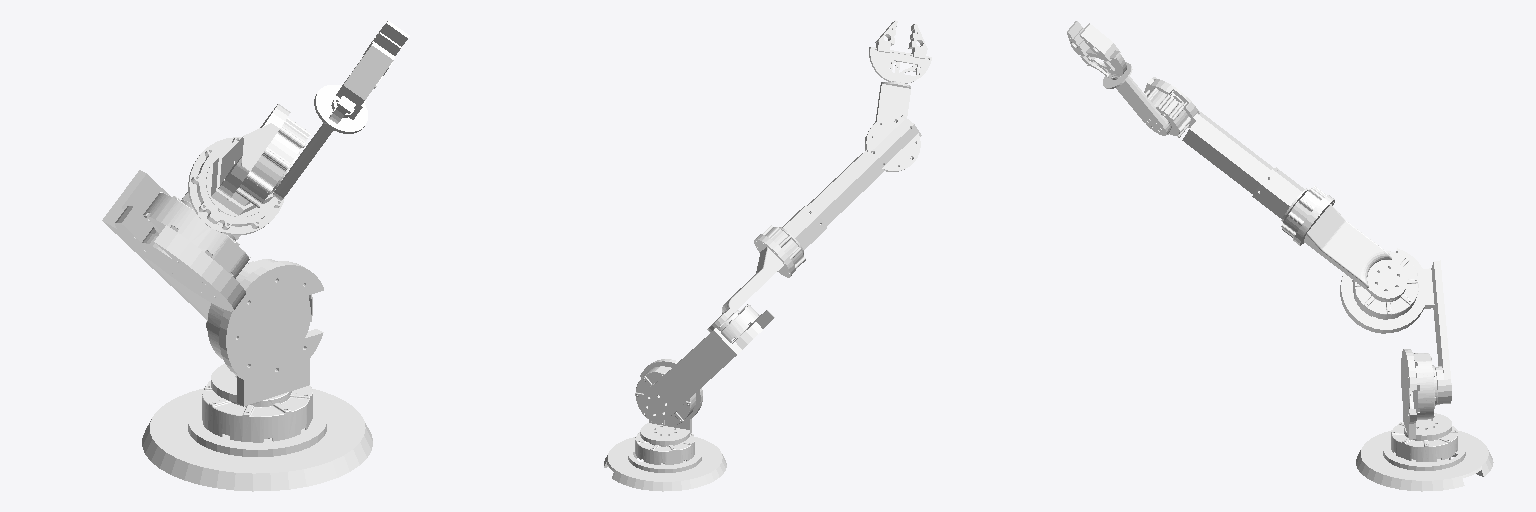
URDF robot description (ave_arm):
<?xml version="1.0" encoding="utf-8"?>
<!-- This URDF was automatically created by SolidWorks to URDF Exporter! Originally created by [author] ([email redacted]) 
     Commit Version: 1.6.0-4-g7f85cfe  Build Version: 1.6.7995.38578
     For more information, please see http://wiki.ros.org/sw_urdf_exporter -->
<robot
  name="ave_arm">
  <link name="dummy">
   </link>
  <joint name="dummy_joint" type="fixed">
     <parent link="dummy"/>
     <child link="base_link"/>
   </joint>
  <link
    name="base_link">
    <inertial>
      <origin
        xyz="-0.00133700451705359 -0.0014776223883016 0.0171725333208996"
        rpy="0 0 0" />
      <mass
        value="0.495398361421742" />
      <inertia
        ixx="0.000977592796343529"
        ixy="5.75472061888291E-05"
        ixz="-1.81686046427324E-06"
        iyy="0.000986321958156476"
        iyz="-1.9921595121604E-06"
        izz="0.00193088540182339" />
    </inertial>
    <visual>
      <origin
        xyz="0 0 0"
        rpy="0 0 0" />
      <geometry>
        <mesh
          filename="package://ave_arm/meshes/base_link.STL" />
      </geometry>
      <material
        name="">
        <color
          rgba="1 1 1 1" />
      </material>
    </visual>
    <collision>
      <origin
        xyz="0 0 0"
        rpy="0 0 0" />
      <geometry>
        <mesh
          filename="package://ave_arm/meshes/base_link.STL" />
      </geometry>
    </collision>
  </link>
  <link
    name="link1">
    <inertial>
      <origin
        xyz="0.00132014818622215 0.00613370248515441 0.0505376779673008"
        rpy="0 0 0" />
      <mass
        value="0.245433733010897" />
      <inertia
        ixx="0.000262605483184927"
        ixy="-2.85267108486222E-06"
        ixz="-8.08644050972868E-06"
        iyy="0.000385789151658845"
        iyz="-3.04033425031524E-05"
        izz="0.000185347731633862" />
    </inertial>
    <visual>
      <origin
        xyz="0 0 0"
        rpy="0 0 0" />
      <geometry>
        <mesh
          filename="package://ave_arm/meshes/link1.STL" />
      </geometry>
      <material
        name="">
        <color
          rgba="1 1 1 1" />
      </material>
    </visual>
    <collision>
      <origin
        xyz="0 0 0"
        rpy="0 0 0" />
      <geometry>
        <mesh
          filename="package://ave_arm/meshes/link1.STL" />
      </geometry>
    </collision>
  </link>
  <joint
    name="joint1"
    type="continuous">
    <origin
      xyz="0.00090375 0.00093124 0.0615"
      rpy="0 0 -3.0139" />
    <parent
      link="base_link" />
    <child
      link="link1" />
    <axis
      xyz="0 0 1" />
  </joint>
  <link
    name="link2">
    <inertial>
      <origin
        xyz="0.126827475764063 0.00538054748160802 0.0581422477433894"
        rpy="0 0 0" />
      <mass
        value="0.469251691539086" />
      <inertia
        ixx="0.000735122280564443"
        ixy="-0.000100192677052429"
        ixz="-0.000357149652393404"
        iyy="0.00184228470253638"
        iyz="-8.74879494582947E-05"
        izz="0.0012380826246888" />
    </inertial>
    <visual>
      <origin
        xyz="0 0 0"
        rpy="0 0 0" />
      <geometry>
        <mesh
          filename="package://ave_arm/meshes/link2.STL" />
      </geometry>
      <material
        name="">
        <color
          rgba="1 1 1 1" />
      </material>
    </visual>
    <collision>
      <origin
        xyz="0 0 0"
        rpy="0 0 0" />
      <geometry>
        <mesh
          filename="package://ave_arm/meshes/link2.STL" />
      </geometry>
    </collision>
  </link>
  <joint
    name="joint2"
    type="continuous">
    <origin
      xyz="0 -0.036045 0.06"
      rpy="-1.5708 -0.83842 0" />
    <parent
      link="link1" />
    <child
      link="link2" />
    <axis
      xyz="0 0 -1" />
  </joint>
  <link
    name="link3">
    <inertial>
      <origin
        xyz="-0.0648779081985757 -0.0841990878752458 0.00524640375918309"
        rpy="0 0 0" />
      <mass
        value="0.311778622098952" />
      <inertia
        ixx="0.000367159128282544"
        ixy="-0.000151103106476051"
        ixz="2.76043573671825E-05"
        iyy="0.00028751609285446"
        iyz="3.58246773884041E-05"
        izz="0.000520368415855329" />
    </inertial>
    <visual>
      <origin
        xyz="0 0 0"
        rpy="0 0 0" />
      <geometry>
        <mesh
          filename="package://ave_arm/meshes/link3.STL" />
      </geometry>
      <material
        name="">
        <color
          rgba="1 1 1 1" />
      </material>
    </visual>
    <collision>
      <origin
        xyz="0 0 0"
        rpy="0 0 0" />
      <geometry>
        <mesh
          filename="package://ave_arm/meshes/link3.STL" />
      </geometry>
    </collision>
  </link>
  <joint
    name="joint3"
    type="continuous">
    <origin
      xyz="0.15411 -0.034 0.08"
      rpy="-1.5708 -0.085616 3.1416" />
    <parent
      link="link2" />
    <child
      link="link3" />
    <axis
      xyz="0 0 1" />
  </joint>
  <link
    name="link4">
    <inertial>
      <origin
        xyz="-0.000184667003483879 0.000219303481400063 0.147525025287695"
        rpy="0 0 0" />
      <mass
        value="0.473749922977081" />
      <inertia
        ixx="0.00148782041076138"
        ixy="-8.49394546955604E-06"
        ixz="2.53966080391733E-05"
        iyy="0.00153601210270288"
        iyz="-8.04811278400785E-05"
        izz="0.000176531298886707" />
    </inertial>
    <visual>
      <origin
        xyz="0 0 0"
        rpy="0 0 0" />
      <geometry>
        <mesh
          filename="package://ave_arm/meshes/link4.STL" />
      </geometry>
      <material
        name="">
        <color
          rgba="1 1 1 1" />
      </material>
    </visual>
    <collision>
      <origin
        xyz="0 0 0"
        rpy="0 0 0" />
      <geometry>
        <mesh
          filename="package://ave_arm/meshes/link4.STL" />
      </geometry>
    </collision>
  </link>
  <joint
    name="joint4"
    type="continuous">
    <origin
      xyz="-0.10359 -0.13442 0.01"
      rpy="1.5708 -1.4162 -0.65657" />
    <parent
      link="link3" />
    <child
      link="link4" />
    <axis
      xyz="0 0 1" />
  </joint>
  <link
    name="link5">
    <inertial>
      <origin
        xyz="0.000487847303525024 0.103069627445185 0.0047959021477267"
        rpy="0 0 0" />
      <mass
        value="0.122729595601156" />
      <inertia
        ixx="0.000119906990002352"
        ixy="1.40339492161808E-06"
        ixz="3.25048335977657E-08"
        iyy="5.98949635353449E-05"
        iyz="6.39169795372326E-07"
        izz="0.000173033038035876" />
    </inertial>
    <visual>
      <origin
        xyz="0 0 0"
        rpy="0 0 0" />
      <geometry>
        <mesh
          filename="package://ave_arm/meshes/link5.STL" />
      </geometry>
      <material
        name="">
        <color
          rgba="1 1 1 1" />
      </material>
    </visual>
    <collision>
      <origin
        xyz="0 0 0"
        rpy="0 0 0" />
      <geometry>
        <mesh
          filename="package://ave_arm/meshes/link5.STL" />
      </geometry>
    </collision>
  </link>
  <joint
    name="joint5"
    type="continuous">
    <origin
      xyz="0.0043571 -0.023601 0.23322"
      rpy="1.5708 0.66236 0.18256" />
    <parent
      link="link4" />
    <child
      link="link5" />
    <axis
      xyz="0 0 -1" />
  </joint>
</robot>

--- Facts derived from the render (not from the file) ---
Views: 3 orthographic renders of the robot side by side, from view 1: azimuth 30°, elevation 25°; view 2: azimuth 150°, elevation 25°; view 3: azimuth 270°, elevation 25°.
Robot: ave_arm — 7 links, 6 joints (5 continuous, 1 fixed); root link dummy; default pose: all joints at 0.
Visible links, largest first — view 1: base_link, link1, link2, link4, link5, link3; view 2: link4, base_link, link2, link5, link3, link1; view 3: base_link, link4, link3, link2, link5, link1.
Boxes of the visible links, x1,y1,x2,y2 form: base_link: [142, 381, 372, 491]; link1: [206, 259, 323, 406]; link2: [102, 170, 250, 320]; link4: [206, 104, 310, 216]; link5: [273, 21, 409, 200]; link3: [182, 137, 284, 239]; link4: [779, 115, 921, 254]; base_link: [604, 432, 726, 491]; link2: [641, 304, 774, 420]; link5: [869, 20, 931, 121]; link3: [707, 225, 805, 332]; link1: [635, 359, 702, 444]; base_link: [1356, 422, 1493, 491]; link4: [1144, 77, 1307, 222]; link3: [1281, 186, 1407, 300]; link2: [1340, 248, 1451, 404]; link5: [1067, 21, 1170, 135]; link1: [1401, 349, 1451, 439].
Bounding box of the posed robot: 0.3525 × 0.6173 × 0.6303 m (x, y, z).
6 mesh visuals loaded from 6 distinct referenced files (6 binary STL).